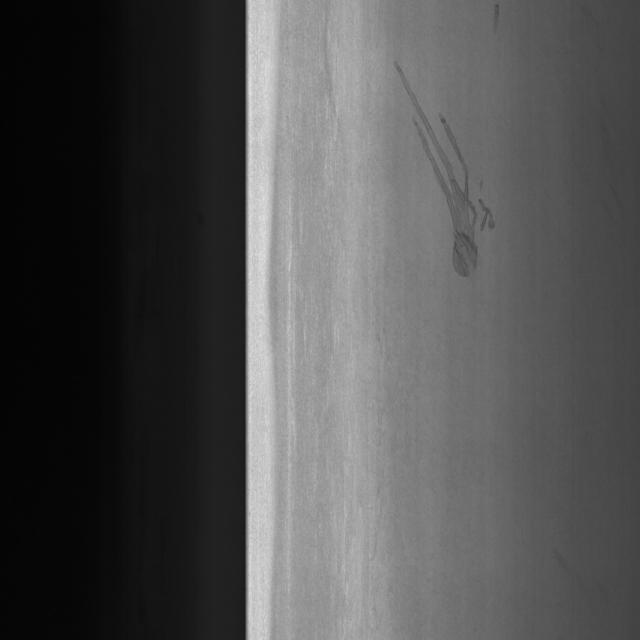water_spot: (384, 42, 504, 290)
